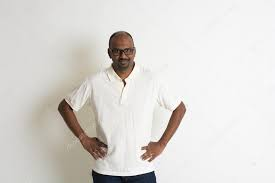Indian_Male: (99, 29, 138, 67)
